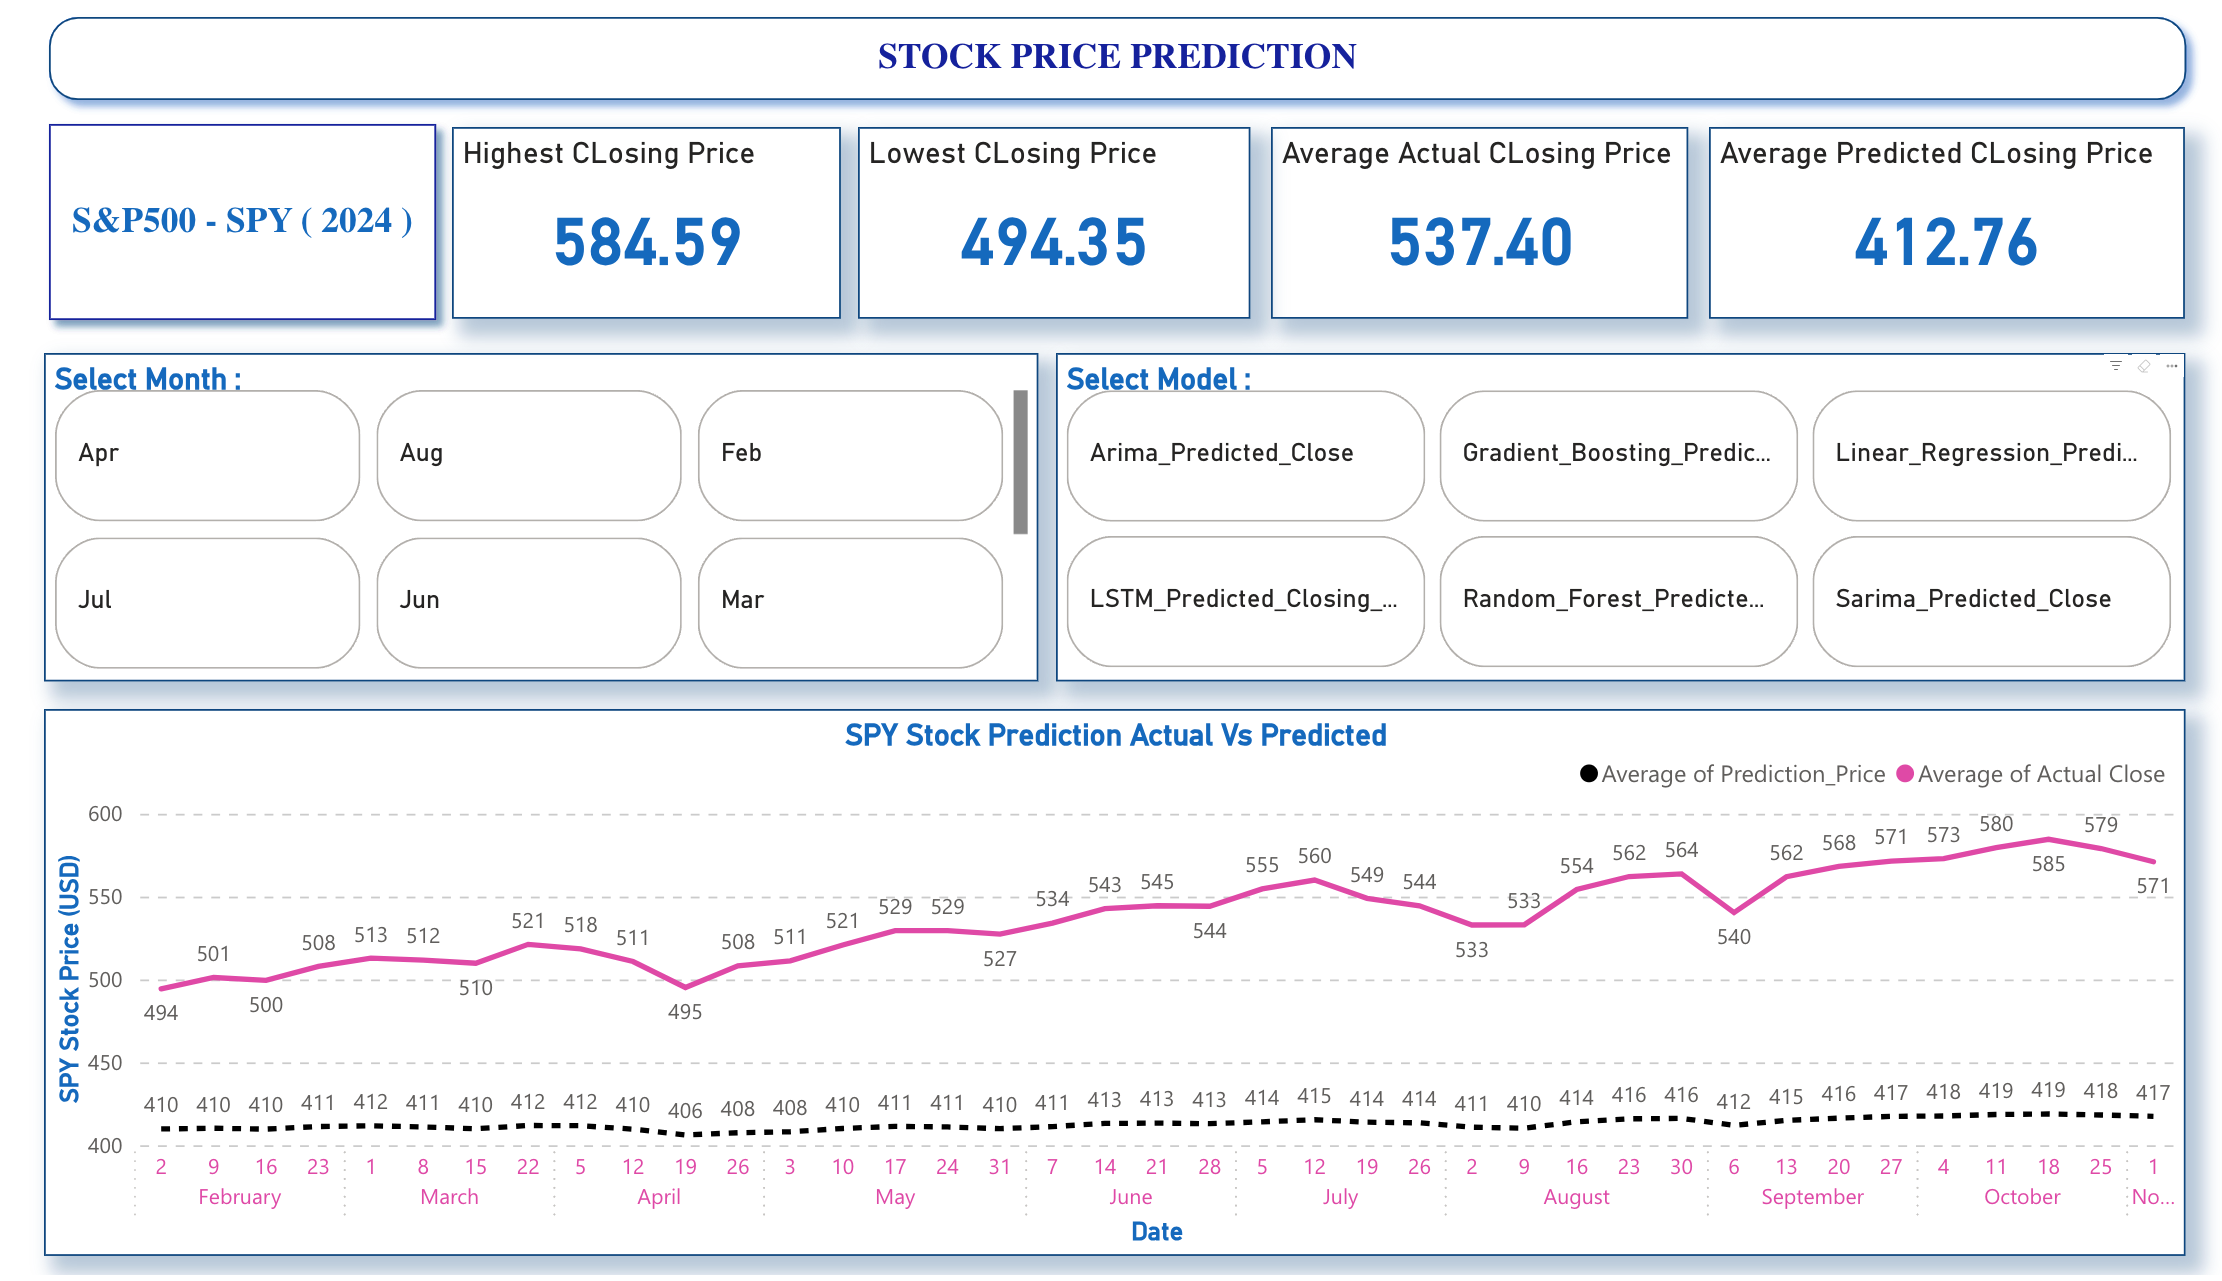

This screenshot's page, from the dashboard's own definition file:
{"tool":"powerbi","page":{"name":"SPY_STOCK_PRICE_PREDICTION","canvas":[1280,720],"ordinal":0},"visuals":[{"type":"shape","box":[34.2,2.4,1221.6,64.8],"z":0},{"type":"advancedSlicerVisual","title":"Select Month :","fields":{"Values":["Sheet1.Month"]},"box":[40.4,200.5,560.1,184.6],"z":1000},{"type":"advancedSlicerVisual","title":"Select Model :","fields":{"Values":["Sheet1.Model"]},"box":[610.2,200.5,635.9,184.6],"z":2000},{"type":"lineChart","title":"SPY Stock Prediction Actual Vs Predicted ","fields":{"Y":["Avg(Sheet1.Prediction_Price)","Avg(Sheet1.Actual Close)"],"Category":["Sheet1.Date.Variation.Date Hierarchy.Month","Sheet1.Date.Variation.Date Hierarchy.Day"]},"box":[40.4,401.1,1205.7,308.2],"z":3000},{"type":"shape","box":[34.2,62.4,236,128.4],"z":4000},{"type":"card","title":"Average Actual CLosing Price","fields":{"Values":["Avg(Sheet1.Actual Close)"]},"box":[731.3,73.4,234.8,107.6],"z":5000},{"type":"card","title":"Average Predicted CLosing Price","fields":{"Values":["Avg(Sheet1.Prediction_Price)"]},"box":[978.3,73.4,267.8,107.6],"z":6000},{"type":"card","title":"Highest CLosing Price","fields":{"Values":["Max(Sheet1.Actual Close)"]},"box":[270.2,73.4,218.9,107.6],"z":7000},{"type":"card","title":"Lowest CLosing Price","fields":{"Values":["Min(Sheet1.Actual Close)"]},"box":[498.9,73.4,221.3,107.6],"z":8000}]}

Visuals, with their boxes in screenshot pixels (x1, y1, x2, y2), scaled from the page's 1280x720 canvas onto the 2222x1281 screenshot:
shape: 59:4:2180:120
"Select Month :" advancedSlicerVisual: 70:357:1042:685
"Select Model :" advancedSlicerVisual: 1059:357:2163:685
"SPY Stock Prediction Actual Vs Predicted " lineChart: 70:714:2163:1262
shape: 59:111:469:339
"Average Actual CLosing Price" card: 1269:131:1677:322
"Average Predicted CLosing Price" card: 1698:131:2163:322
"Highest CLosing Price" card: 469:131:849:322
"Lowest CLosing Price" card: 866:131:1250:322
